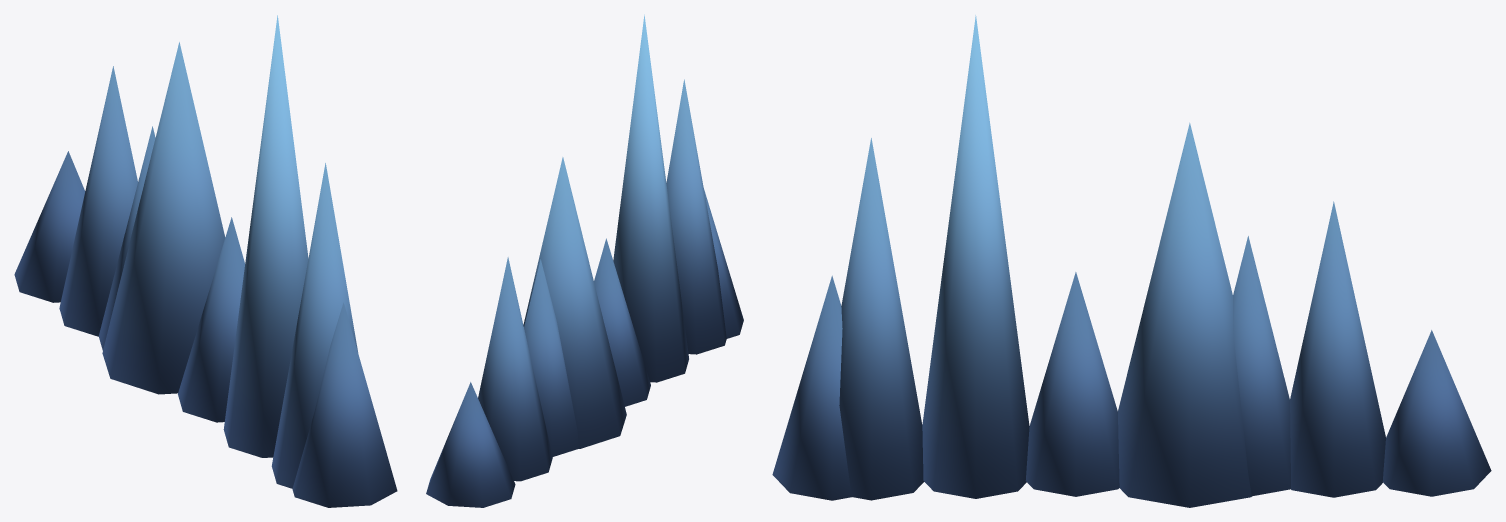
File: Icicles.fbx
The picture shows the model from 3 angles, left to right: view 1: azimuth 30°, elevation 25°; view 2: azimuth 150°, elevation 25°; view 3: azimuth 270°, elevation 25°; orthographic projection. The views are drawn at different scales.
Visible parts, largest first — view 1: Icicles; view 2: Icicles; view 3: Icicles.
Part boxes in pixels (x1,y1,x2,y2): Icicles: (14,15,397,507); Icicles: (426,14,743,507); Icicles: (772,15,1491,507).
Bounding box in the file's own units: 57.73 × 169 × 239.
